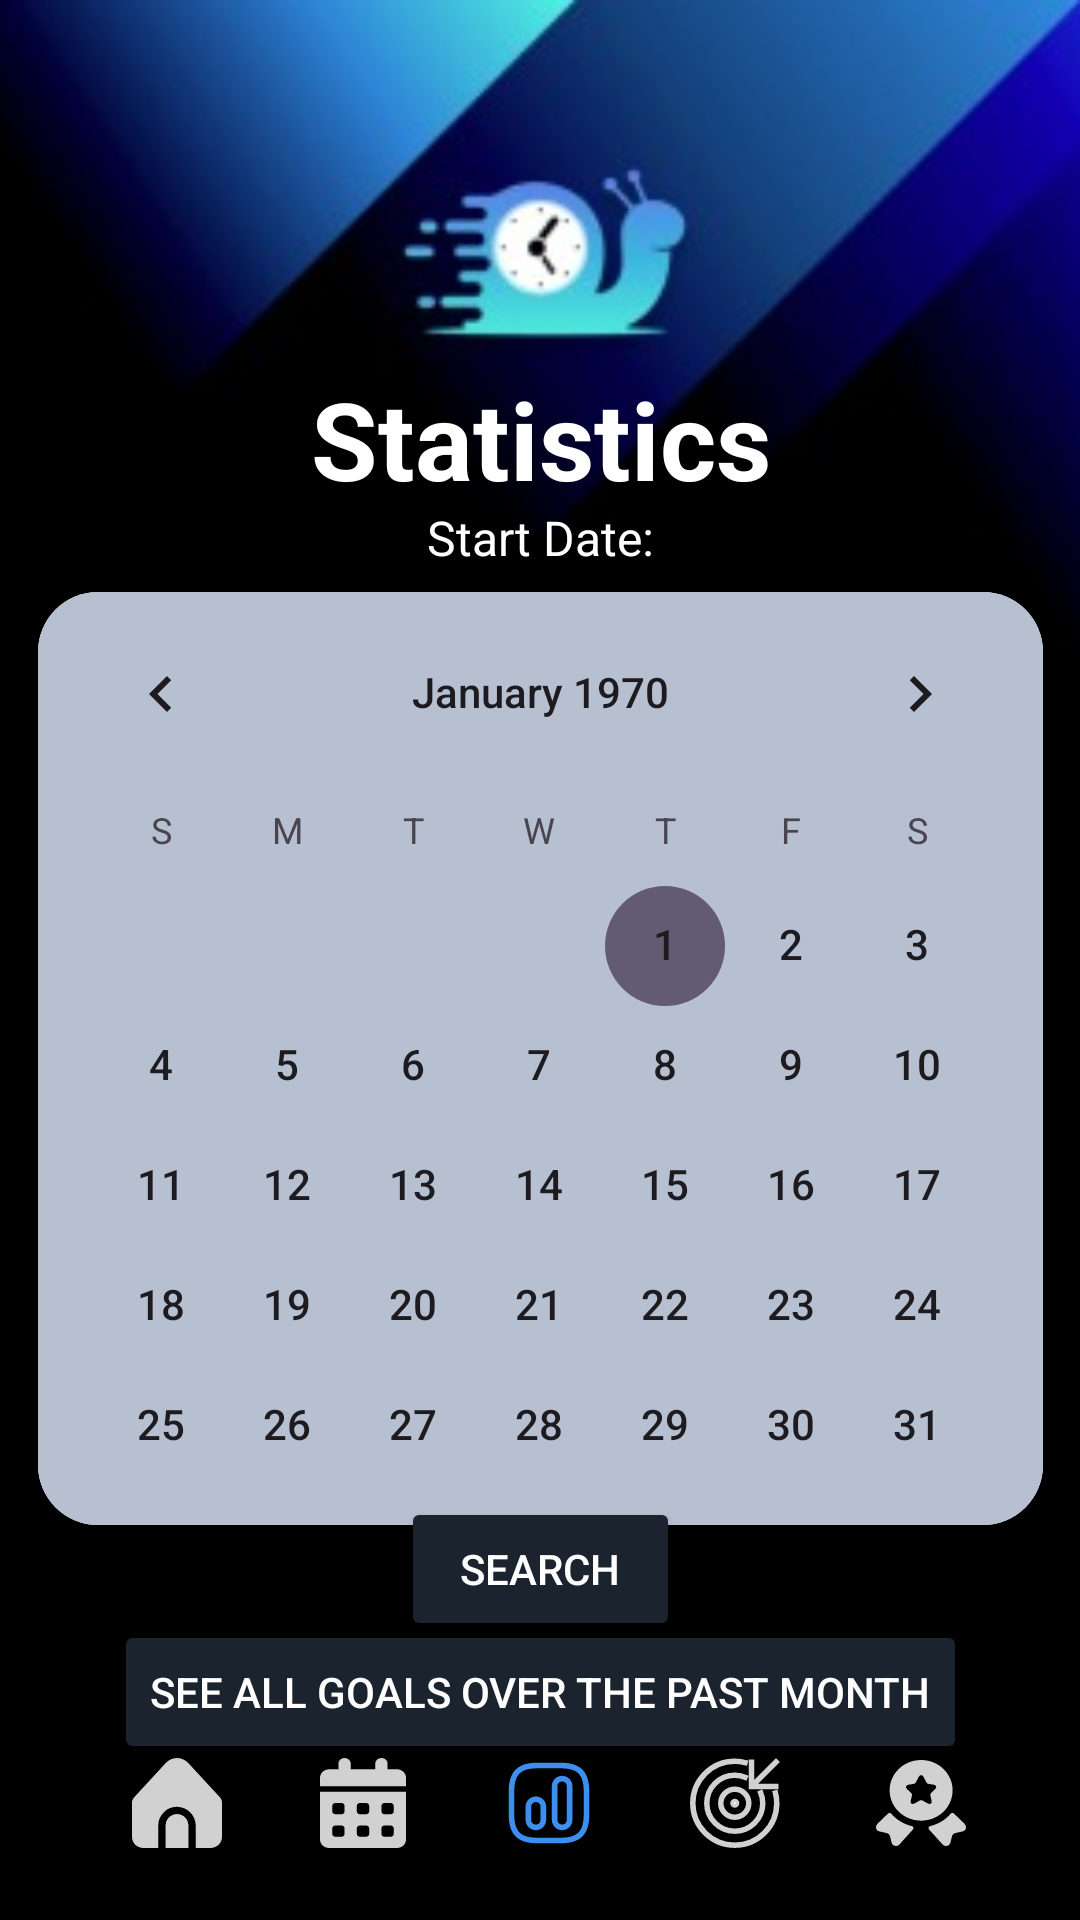

Locate icon controls on the screen. Image size 1080x1920, boxes as (x1, y1, x2, y2).
calander: (320, 1758, 406, 1848)
home: (132, 1758, 222, 1848)
statistics: (508, 1762, 590, 1844)
